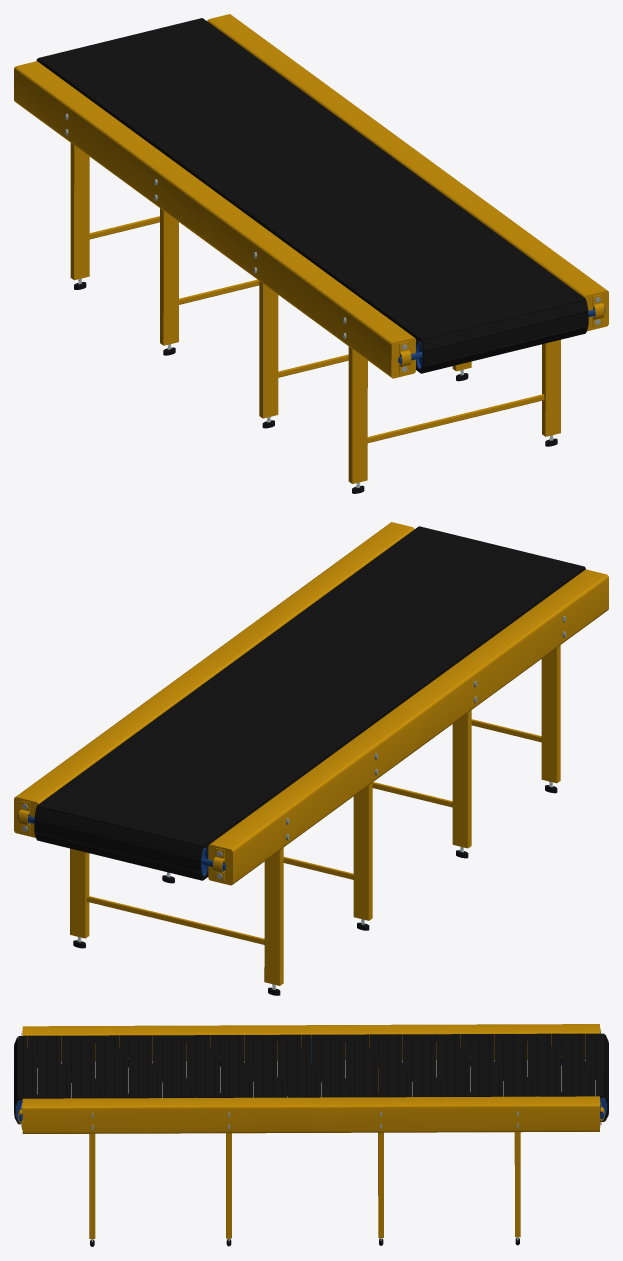
Rendered from conveyor.obj.
The picture shows the model from 3 angles, top to bottom: view 1: azimuth 30°, elevation 25°; view 2: azimuth 150°, elevation 25°; view 3: azimuth 270°, elevation 25°; orthographic projection. The views are drawn at different scales.
Visible parts, largest first — view 1: Conveyor_Stripe01_Mesh.000; view 2: Conveyor_Stripe01_Mesh.000; view 3: Conveyor_Stripe01_Mesh.000.
Part boxes in pixels (bbox=[...]): Conveyor_Stripe01_Mesh.000: bbox=[14, 14, 608, 493]; Conveyor_Stripe01_Mesh.000: bbox=[14, 522, 608, 995]; Conveyor_Stripe01_Mesh.000: bbox=[14, 1024, 608, 1246].
Bounding box in the file's own units: 1 × 0.8 × 3.
1 material, 1 textured.
